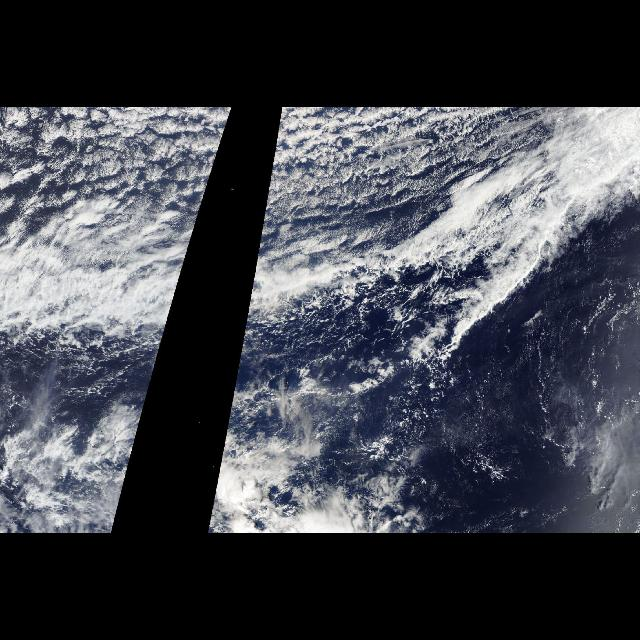Gravel: (0, 108, 232, 215), (261, 108, 453, 225), (256, 274, 448, 382)
Sugar: (450, 341, 640, 453)
